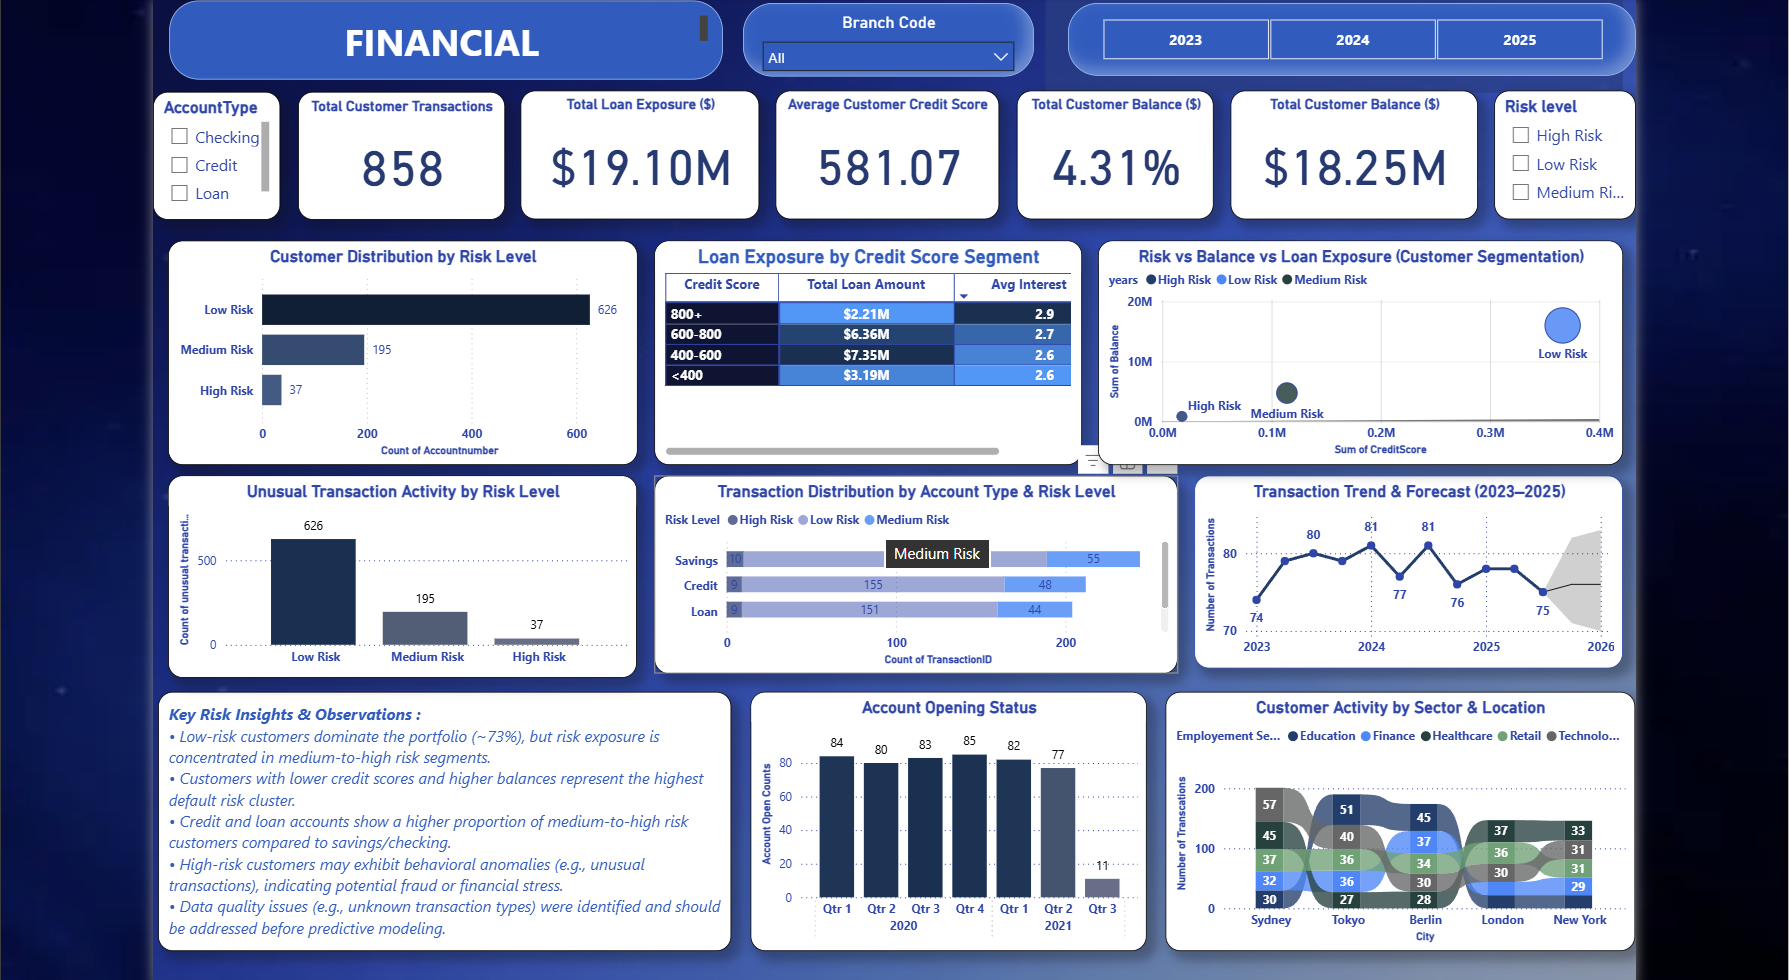

What the dashboard file says about the page in this screenshot:
{"tool":"powerbi","page":{"name":"DASHBOARD2","canvas":[1500,1000],"ordinal":0},"visuals":[{"type":"shape","box":[903.1,0,584.3,95.8],"z":0},{"type":"card","title":"Total Customer Transactions","fields":{"Values":["Count(All Customer Transction.TransactionID)"]},"box":[146.4,94.4,209.4,130],"z":1000},{"type":"card","title":"Total Loan Exposure ($)","fields":{"Values":["Sum(All Customer Transction.Loan Amount(USD))"]},"box":[371.8,94.1,241.6,130.6],"z":2000},{"type":"card","title":"Total Customer Balance ($)","fields":{"Values":["Sum(All Customer Transction.Balance(USD))"]},"box":[1089.8,94.1,250,130.6],"z":3000},{"type":"card","title":"Average Customer Credit Score","fields":{"Values":["Avg(All Customer Transction.CreditScore)"]},"box":[630.3,94.1,226.1,130.6],"z":4000},{"type":"slicer","title":"AccountType","fields":{"Values":["All Customer Transction.AccountType"]},"box":[0,94.4,128.6,130],"z":5000},{"type":"slicer","title":"Branch Code ","fields":{"Values":["All Customer Transction.BranchCode"]},"box":[597.3,5.6,294.2,74.4],"z":6000},{"type":"slicer","fields":{"Values":["All Customer Transction.TransactionDate.Variation.Date Hierarchy.Year"]},"box":[925,5.5,574.7,73.9],"z":7000},{"type":"lineChart","title":"Transaction Trend & Forecast (2023–2025)","fields":{"Category":["All Customer Transction.TransactionDate.Variation.Date Hierarchy.Year","All Customer Transction.TransactionDate.Variation.Date Hierarchy.Quarter"],"Y":["CountNonNull(All Customer Transction.TransactionID)"]},"box":[1053.4,483.1,434,195.2],"z":8000},{"type":"textbox","box":[16,2.7,560,80],"z":9000},{"type":"pivotTable","title":"Loan Exposure by Credit Score Segment","fields":{"Rows":["All Customer Transction.Credit Score Range"],"Values":["Sum(All Customer Transction.Loan Amount(USD))","Avg(All Customer Transction.InterestRate)"]},"box":[507.7,244.9,432.4,227.1],"z":10000},{"type":"clusteredColumnChart","title":"Account Opening Status","fields":{"Category":["All Customer Transction.OpeningDate.Variation.Date Hierarchy.Year","All Customer Transction.OpeningDate.Variation.Date Hierarchy.Quarter"],"Y":["Count(All Customer Transction.AccountNumber)"]},"box":[604.8,702,400.9,262.7],"z":11000},{"type":"ribbonChart","title":"Customer Activity by Sector & Location","fields":{"Category":["All Customer Transction.City"],"Y":["CountNonNull(All Customer Transction.TransactionID)"],"Series":["All Customer Transction.Employement Sector"]},"box":[1024.9,702,474.8,262.7],"z":12000},{"type":"barChart","title":"Transaction Distribution by Account Type & Risk Level","fields":{"Category":["All Customer Transction.AccountType"],"Y":["CountNonNull(All Customer Transction.TransactionID)"],"Series":["All Customer Transction.Risk Level"]},"box":[507,483.1,529.5,200.8],"z":13000},{"type":"scatterChart","title":"Risk vs Balance vs Loan Exposure (Customer Segmentation)","fields":{"X":["Sum(All Customer Transction.CreditScore)"],"Y":["Sum(All Customer Transction.Balance)"],"Series":["All Customer Transction.Risk Level"],"Size":["Sum(All Customer Transction.LoanAmount)"]},"box":[956.5,244.9,530.9,227.1],"z":14000},{"type":"slicer","title":"Risk level","fields":{"Values":["All Customer Transction.Risk Level"]},"box":[1356.7,94.1,143.3,130.6],"z":15000},{"type":"clusteredBarChart","title":"Customer Distribution by Risk Level","fields":{"Category":["All Customer Transction.Risk Level"],"Y":["CountNonNull(All Customer Transction.AccountNumber)"]},"box":[15.1,244.9,474.8,227.1],"z":16000},{"type":"textbox","box":[5.5,702,580.2,262.7],"z":17000},{"type":"clusteredColumnChart","title":"Unusual Transaction Activity by Risk Level","fields":{"Category":["All Customer Transction.Risk Level"],"Y":["CountNonNull(All Customer Transction.unusual transactions)"]},"box":[15.4,483.1,474.7,205.1],"z":18000},{"type":"card","title":"Total Customer Balance ($)","fields":{"Values":["High Risk %.High Risk %"]},"box":[873.4,94.1,199.4,130.6],"z":19000}]}

Visuals, with their boxes in screenshot pixels (x1, y1, x2, y2):
shape: (left=1043, top=0, right=1628, bottom=87)
"Total Customer Transactions" card: (left=286, top=85, right=496, bottom=215)
"Total Loan Exposure ($)" card: (left=512, top=85, right=753, bottom=215)
"Total Customer Balance ($)" card: (left=1230, top=85, right=1480, bottom=215)
"Average Customer Credit Score" card: (left=770, top=85, right=996, bottom=215)
"AccountType" slicer: (left=140, top=85, right=268, bottom=215)
"Branch Code " slicer: (left=737, top=0, right=1032, bottom=71)
slicer - All Customer Transction.TransactionDate.Variation.Date Hierarchy.Year: (left=1065, top=0, right=1640, bottom=70)
"Transaction Trend & Forecast (2023–2025)" lineChart: (left=1193, top=474, right=1628, bottom=669)
textbox: (left=156, top=0, right=716, bottom=73)
"Loan Exposure by Credit Score Segment" pivotTable: (left=648, top=236, right=1080, bottom=463)
"Account Opening Status" clusteredColumnChart: (left=745, top=693, right=1146, bottom=956)
"Customer Activity by Sector & Location" ribbonChart: (left=1165, top=693, right=1640, bottom=956)
"Transaction Distribution by Account Type & Risk Level" barChart: (left=647, top=474, right=1177, bottom=675)
"Risk vs Balance vs Loan Exposure (Customer Segmentation)" scatterChart: (left=1097, top=236, right=1628, bottom=463)
"Risk level" slicer: (left=1497, top=85, right=1640, bottom=215)
"Customer Distribution by Risk Level" clusteredBarChart: (left=155, top=236, right=630, bottom=463)
textbox: (left=145, top=693, right=726, bottom=956)
"Unusual Transaction Activity by Risk Level" clusteredColumnChart: (left=155, top=474, right=630, bottom=679)
"Total Customer Balance ($)" card: (left=1013, top=85, right=1213, bottom=215)
